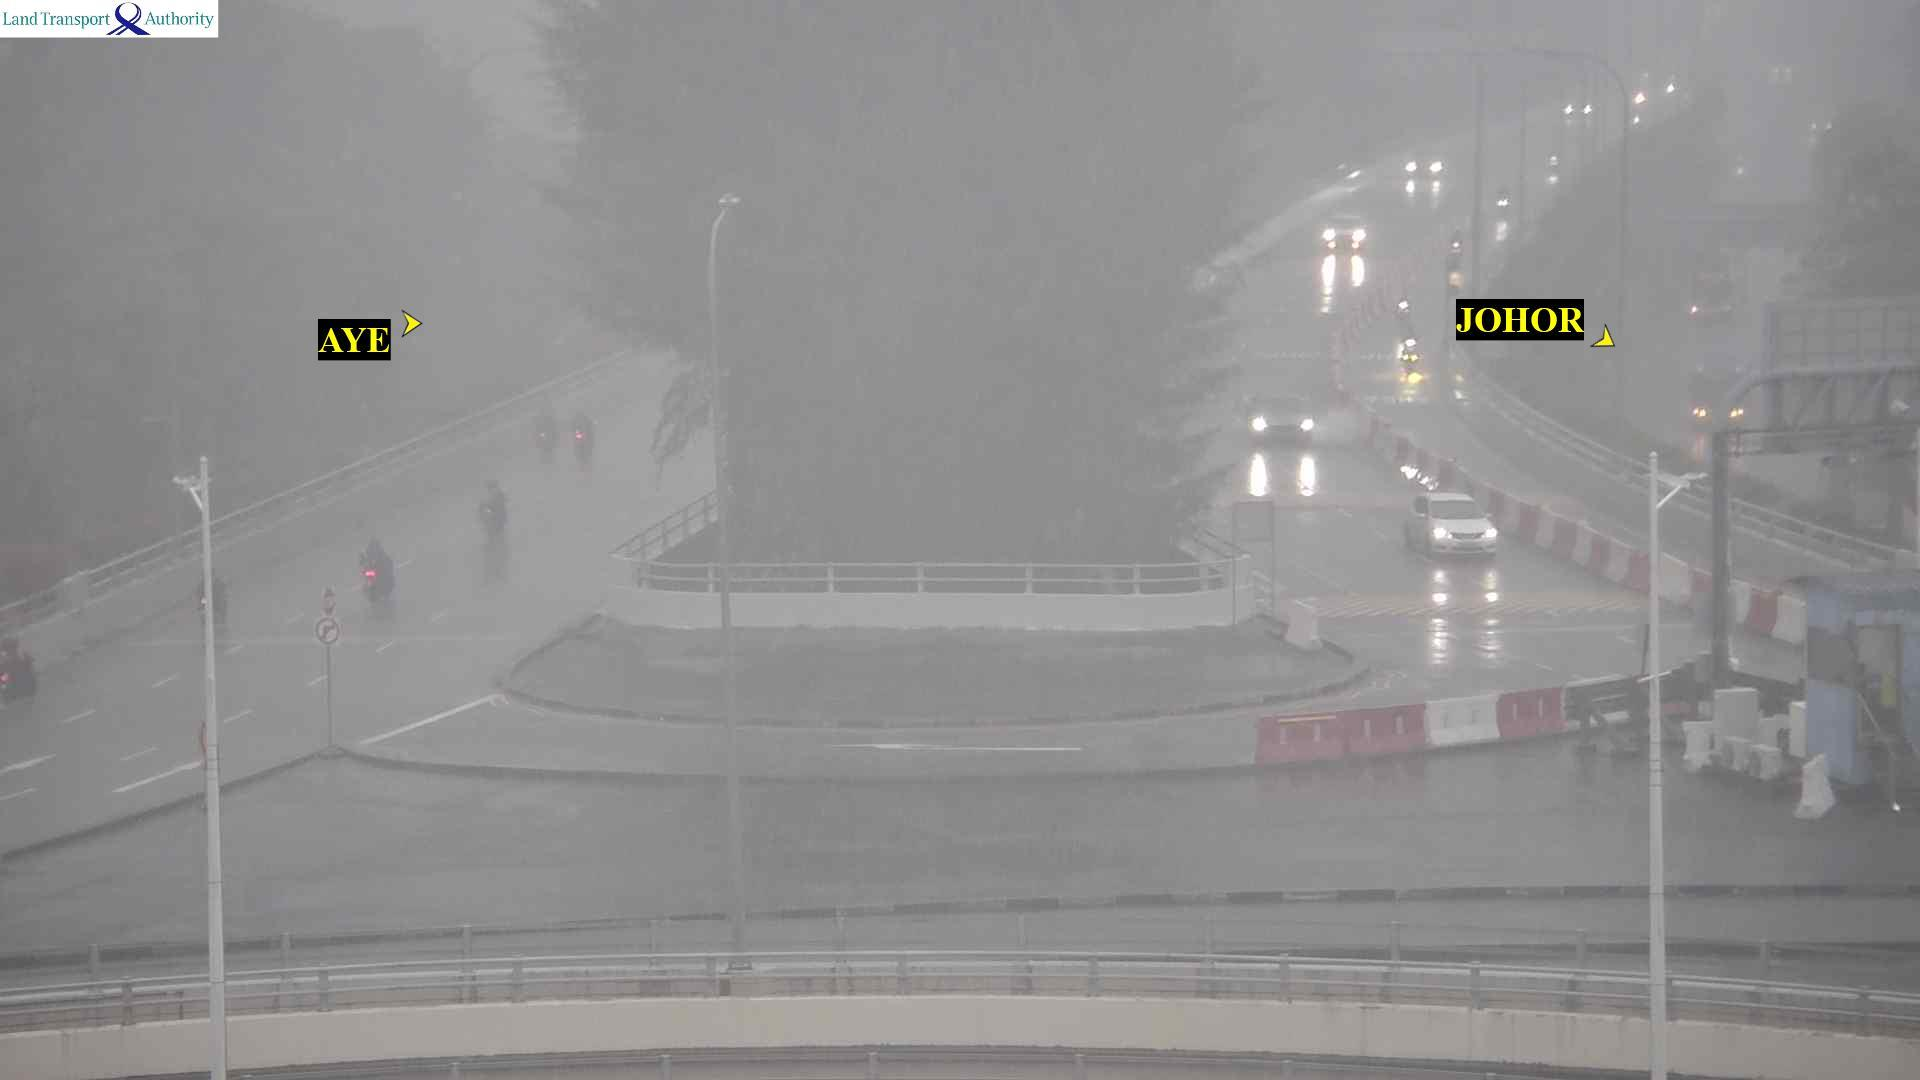vehicle-secondlink-johor: (1405, 494, 1510, 557), (1234, 390, 1312, 448), (1402, 142, 1448, 183), (1328, 212, 1368, 254), (1400, 338, 1422, 373), (1396, 293, 1408, 315)
vehicle-secondlink-singapore: (0, 632, 43, 689), (562, 413, 596, 480), (361, 539, 394, 596), (479, 474, 513, 527), (198, 568, 231, 622), (533, 415, 559, 453)
